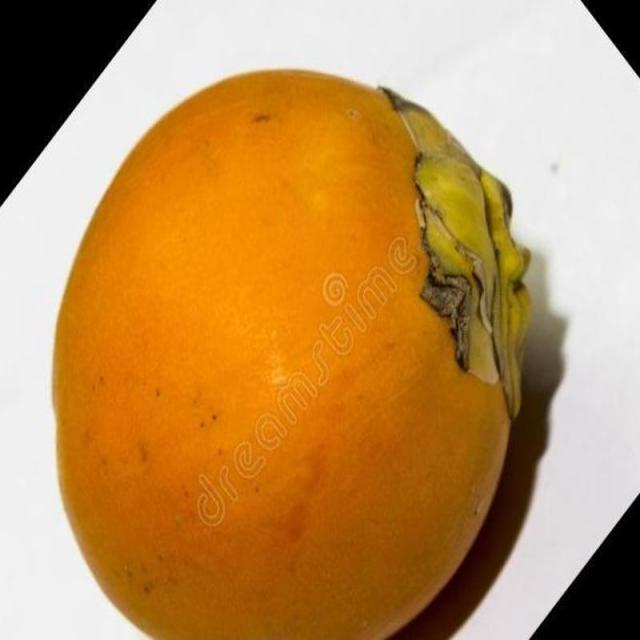good: (50, 69, 534, 639)
